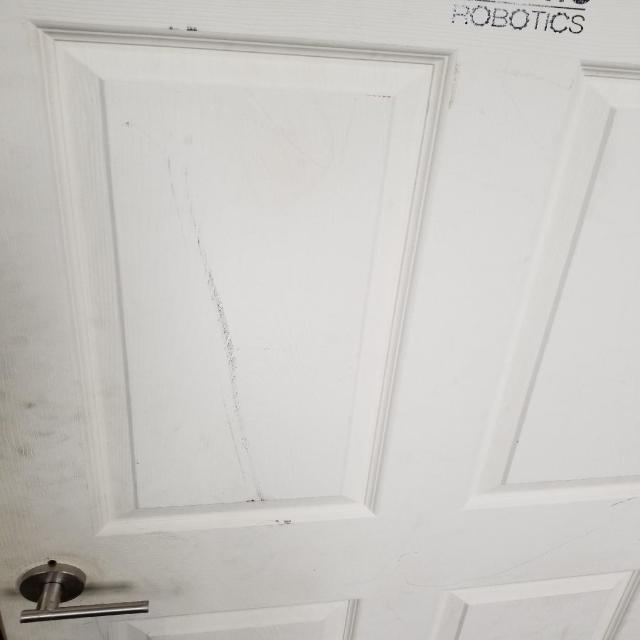door: (13, 558, 153, 624)
